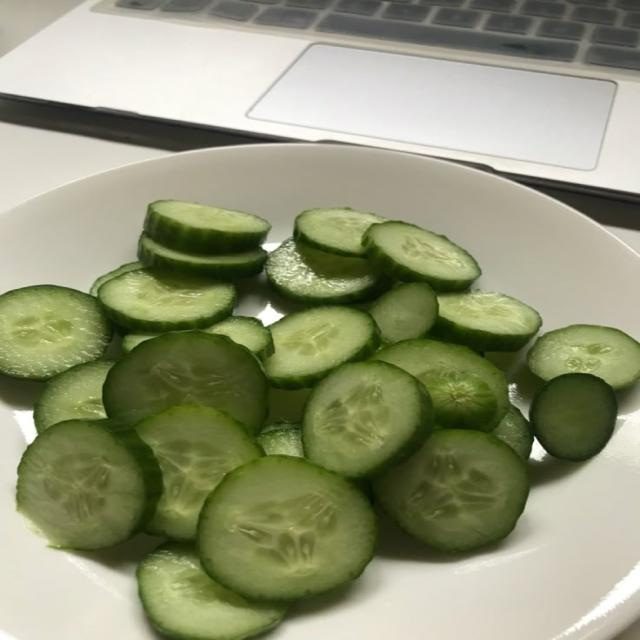cucumber sliced: (198, 456, 376, 600), (374, 430, 528, 551), (17, 421, 161, 549), (135, 406, 262, 540), (103, 331, 267, 433), (302, 361, 433, 478), (137, 543, 286, 639), (374, 339, 509, 431), (0, 286, 112, 380), (265, 306, 379, 389), (99, 269, 235, 332), (363, 222, 480, 290), (266, 239, 388, 304), (530, 374, 617, 461), (527, 325, 639, 389), (145, 200, 270, 253), (434, 290, 541, 350), (138, 234, 266, 279), (34, 361, 114, 432), (294, 207, 385, 257), (370, 283, 438, 343), (200, 316, 273, 359), (203, 316, 273, 359), (492, 406, 533, 459), (90, 261, 144, 296), (256, 423, 304, 457), (268, 387, 310, 424), (122, 334, 160, 354)
